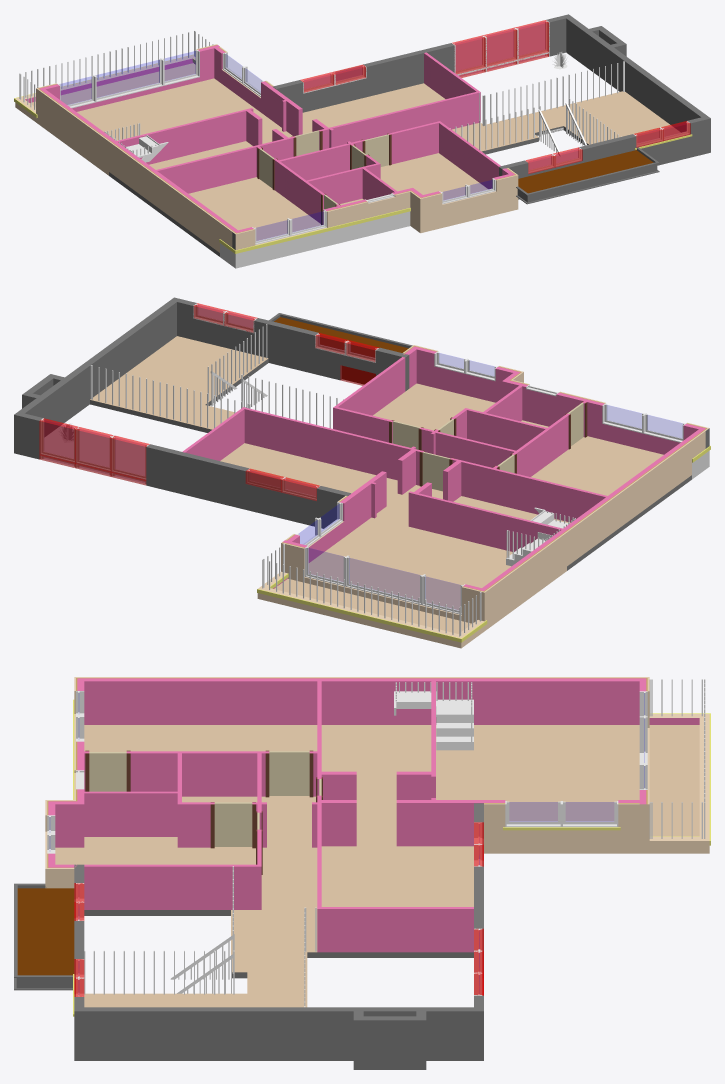
The model's file is LevelView.glb.
The picture shows the model from 3 angles, top to bottom: view 1: azimuth 30°, elevation 25°; view 2: azimuth 150°, elevation 25°; view 3: azimuth 270°, elevation 25°; orthographic projection. The views are drawn at different scales.
Parts seen in each view (by area): view 1: Floor Floors <6557800 FLOOR 1' 0"-GENERIC<, FamilyInstance Windows Avam-window with casing 6.5-operable- (×5), Wall Walls <6362994 04a-(Stucco-drywall) 8"<, Wall Walls <6853953 04a-(Stucco-drywall) 8"<, Wall Walls <6375494 04a-(Stucco-drywall) 8"<, Wall Walls <6743665 04a-(Stucco-drywall) 8"<, Wall Walls <6562805 05b-(drywall-drywall) 3.5"<, Wall Walls <6852173 05b-(drywall-drywall) 3.5"<, Wall Walls <6838200 05b-(drywall-drywall) 3.5"<, Wall Walls <6562955 05b-(drywall-drywall) 3.5"<, Wall Walls <6375384 04a-(Stucco-drywall) 8"<, Wall Walls <6363809 04a-(Stucco-drywall) 8"< (+33 smaller); view 2: Floor Floors <6557800 FLOOR 1' 0"-GENERIC<, Wall Walls <6853953 04a-(Stucco-drywall) 8"<, FamilyInstance Windows Avam-window with casing 6.5-operable- (×5), Wall Walls <6363809 04a-(Stucco-drywall) 8"<, Wall Walls <6362994 04a-(Stucco-drywall) 8"<, Wall Walls <6743665 04a-(Stucco-drywall) 8"<, Wall Walls <6562805 05b-(drywall-drywall) 3.5"<, Wall Walls <6838200 05b-(drywall-drywall) 3.5"<, Wall Walls <6852173 05b-(drywall-drywall) 3.5"<, Wall Walls <6375494 04a-(Stucco-drywall) 8"<, Wall Walls <6539280 04a-(Stucco-drywall) 8"<, Wall Walls <6562955 05b-(drywall-drywall) 3.5"< (+29 smaller); view 3: Floor Floors <6557800 FLOOR 1' 0"-GENERIC<, Wall Walls <6362994 04a-(Stucco-drywall) 8"<, Wall Walls <6743665 04a-(Stucco-drywall) 8"<, Wall Walls <6559347 05b-(drywall-drywall) 3.5"<, Wall Walls <6539280 04a-(Stucco-drywall) 8"<, Wall Walls <6559765 05b-(drywall-drywall) 3.5"<, Wall Walls <6578568 05b-(drywall-drywall) 3.5"<, Wall Walls <6562694 05a-(drywall-drywall) 5.5"<, Floor Floors <6653801 Generic - 4"<, Wall Walls <6883962 04a-(Stucco-drywall) 8"<, Wall Walls <6837394 05b-(drywall-drywall) 3.5"<, FamilyInstance Windows Avam-window with casing 6.5-operable- (×2) (+21 smaller).
Part boxes in pixels (<box>): Floor Floors <6557800 FLOOR 1' 0"-GENERIC<: <box>30,63,680,240</box>; FamilyInstance Windows Avam-window with casing 6.5-operable- (×5): <box>57,49,326,244</box>; Wall Walls <6362994 04a-(Stucco-drywall) 8"<: <box>566,17,710,153</box>; Wall Walls <6853953 04a-(Stucco-drywall) 8"<: <box>274,14,571,112</box>; Wall Walls <6375494 04a-(Stucco-drywall) 8"<: <box>232,188,414,268</box>; Wall Walls <6743665 04a-(Stucco-drywall) 8"<: <box>96,131,225,252</box>; Wall Walls <6562805 05b-(drywall-drywall) 3.5"<: <box>327,92,478,148</box>; Wall Walls <6852173 05b-(drywall-drywall) 3.5"<: <box>156,128,327,193</box>; Wall Walls <6838200 05b-(drywall-drywall) 3.5"<: <box>116,100,286,164</box>; Wall Walls <6562955 05b-(drywall-drywall) 3.5"<: <box>279,122,438,180</box>; Wall Walls <6375384 04a-(Stucco-drywall) 8"<: <box>417,173,518,233</box>; Wall Walls <6363809 04a-(Stucco-drywall) 8"<: <box>499,117,704,199</box>; Floor Floors <6557800 FLOOR 1' 0"-GENERIC<: <box>90,336,663,633</box>; Wall Walls <6853953 04a-(Stucco-drywall) 8"<: <box>14,412,349,528</box>; FamilyInstance Windows Avam-window with casing 6.5-operable- (×5): <box>304,403,686,614</box>; Wall Walls <6363809 04a-(Stucco-drywall) 8"<: <box>177,299,409,391</box>; Wall Walls <6362994 04a-(Stucco-drywall) 8"<: <box>18,297,180,436</box>; Wall Walls <6743665 04a-(Stucco-drywall) 8"<: <box>546,439,691,576</box>; Wall Walls <6562805 05b-(drywall-drywall) 3.5"<: <box>244,408,414,480</box>; Wall Walls <6838200 05b-(drywall-drywall) 3.5"<: <box>371,482,562,551</box>; Wall Walls <6852173 05b-(drywall-drywall) 3.5"<: <box>414,449,607,522</box>; Wall Walls <6375494 04a-(Stucco-drywall) 8"<: <box>502,379,709,469</box>; Wall Walls <6539280 04a-(Stucco-drywall) 8"<: <box>478,541,552,629</box>; Wall Walls <6562955 05b-(drywall-drywall) 3.5"<: <box>336,407,515,467</box>; Floor Floors <6557800 FLOOR 1' 0"-GENERIC<: <box>55,725,699,1007</box>; Wall Walls <6362994 04a-(Stucco-drywall) 8"<: <box>74,1007,473,1060</box>; Wall Walls <6743665 04a-(Stucco-drywall) 8"<: <box>119,677,476,724</box>; Wall Walls <6559347 05b-(drywall-drywall) 3.5"<: <box>84,864,261,909</box>; Wall Walls <6539280 04a-(Stucco-drywall) 8"<: <box>476,677,649,724</box>; Wall Walls <6559765 05b-(drywall-drywall) 3.5"<: <box>317,907,473,952</box>; Wall Walls <6578568 05b-(drywall-drywall) 3.5"<: <box>84,751,317,796</box>; Wall Walls <6562694 05a-(drywall-drywall) 5.5"<: <box>321,800,484,846</box>; Floor Floors <6653801 Generic - 4"<: <box>17,888,74,975</box>; Wall Walls <6883962 04a-(Stucco-drywall) 8"<: <box>484,800,644,853</box>; Wall Walls <6837394 05b-(drywall-drywall) 3.5"<: <box>84,791,177,836</box>; FamilyInstance Windows Avam-window with casing 6.5-operable- (×2): <box>505,801,618,827</box>.
Size of the model in its own units: 16.48 by 1.1 by 14.12.
